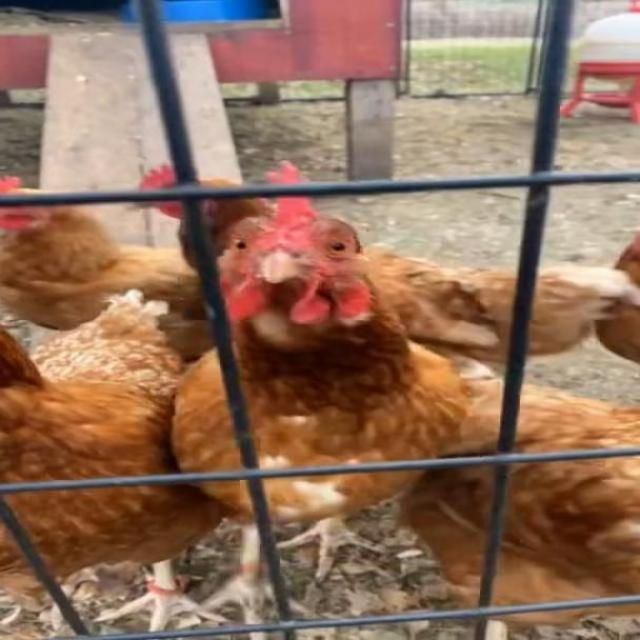Chicken: (166, 164, 471, 640), (124, 162, 636, 371), (0, 289, 222, 631), (410, 352, 640, 639), (0, 175, 205, 329), (599, 229, 640, 367)
